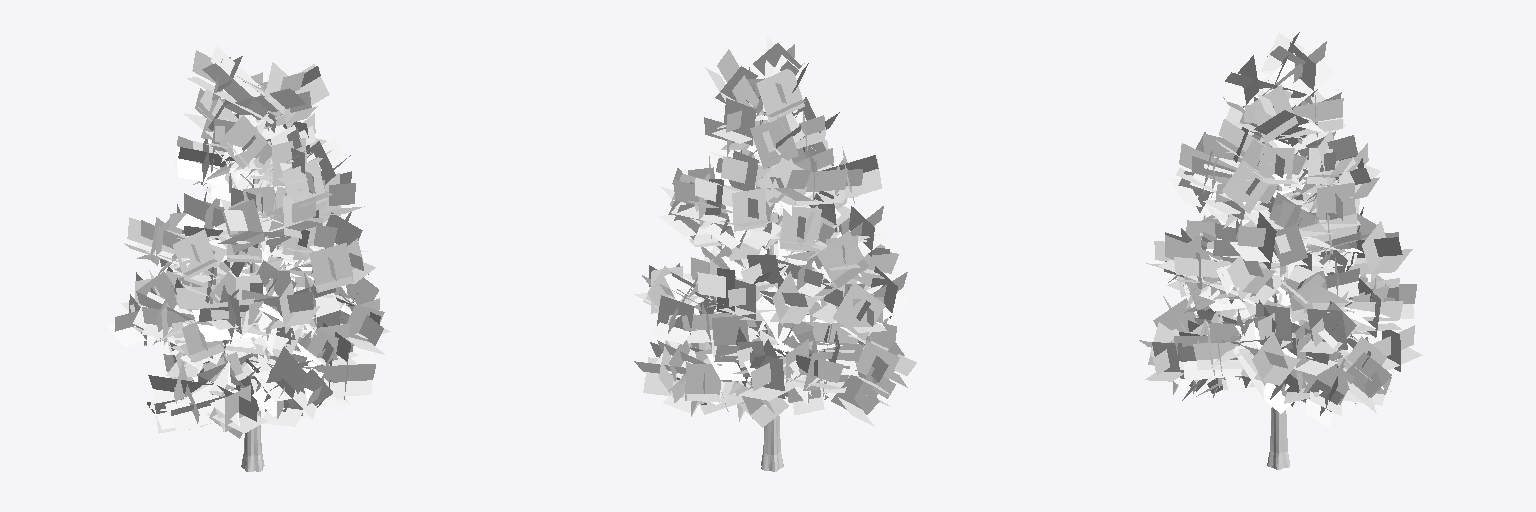
Rendered from tree_obj.obj.
3 renders of one model, left to right at view 1: azimuth 30°, elevation 25°; view 2: azimuth 150°, elevation 25°; view 3: azimuth 270°, elevation 25°, orthographic.
Parts seen in each view (by area): view 1: tree; view 2: tree; view 3: tree.
Part boxes in pixels (left/top/right/bottom): tree: left=107, top=46, right=390, bottom=471; tree: left=634, top=37, right=916, bottom=471; tree: left=1139, top=32, right=1422, bottom=469.
Bounding box in the file's own units: 187 × 320 × 197.